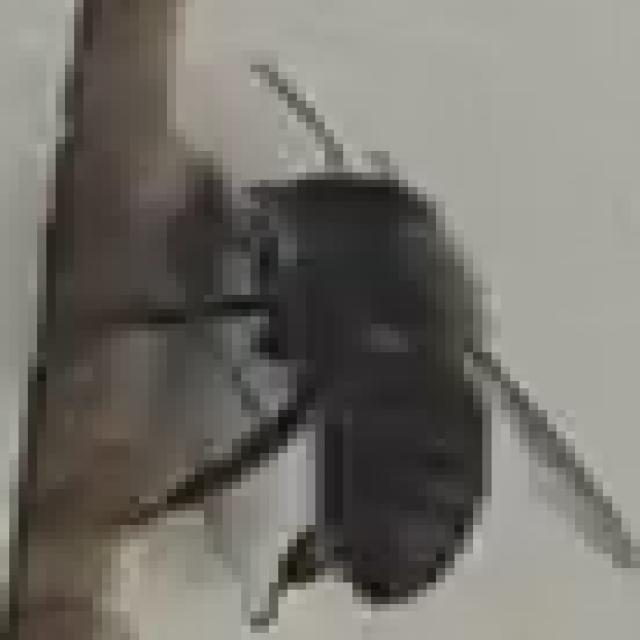honeybee: (185, 83, 559, 600)
